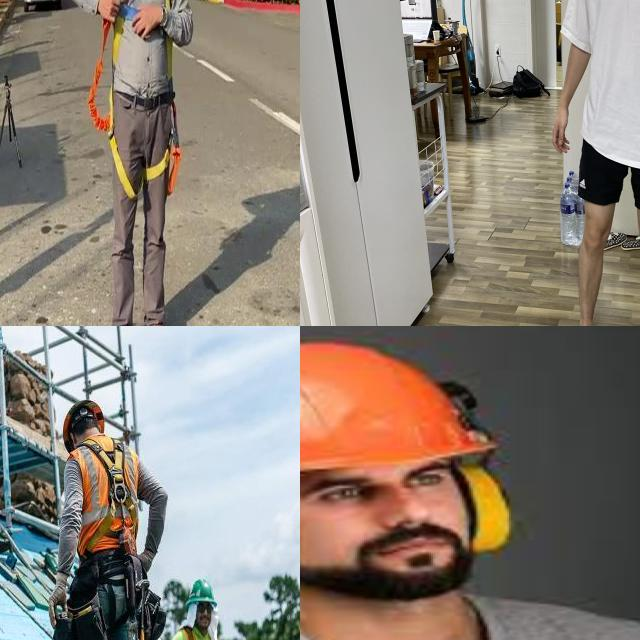Ear-protection: (300, 346, 524, 601)
Harness: (74, 438, 144, 608), (88, 0, 135, 198), (145, 135, 183, 196)
No_Glasses: (300, 455, 466, 516)
Sandals: (563, 309, 594, 326)
